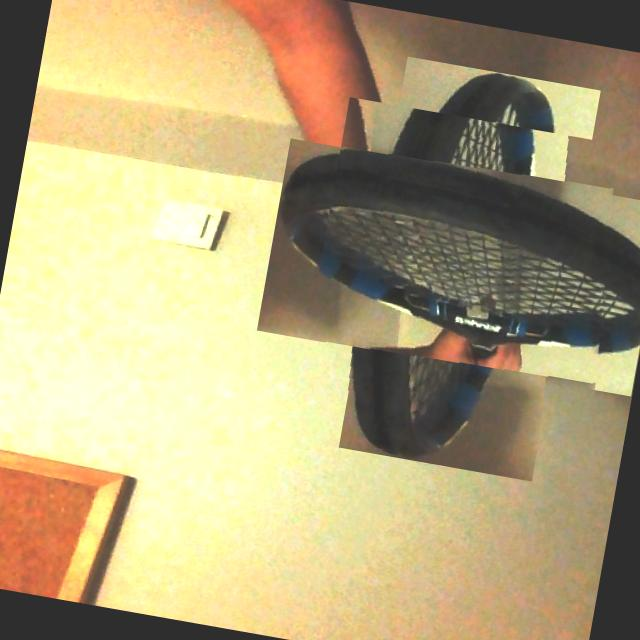TennisRacket: (298, 95, 640, 439)
